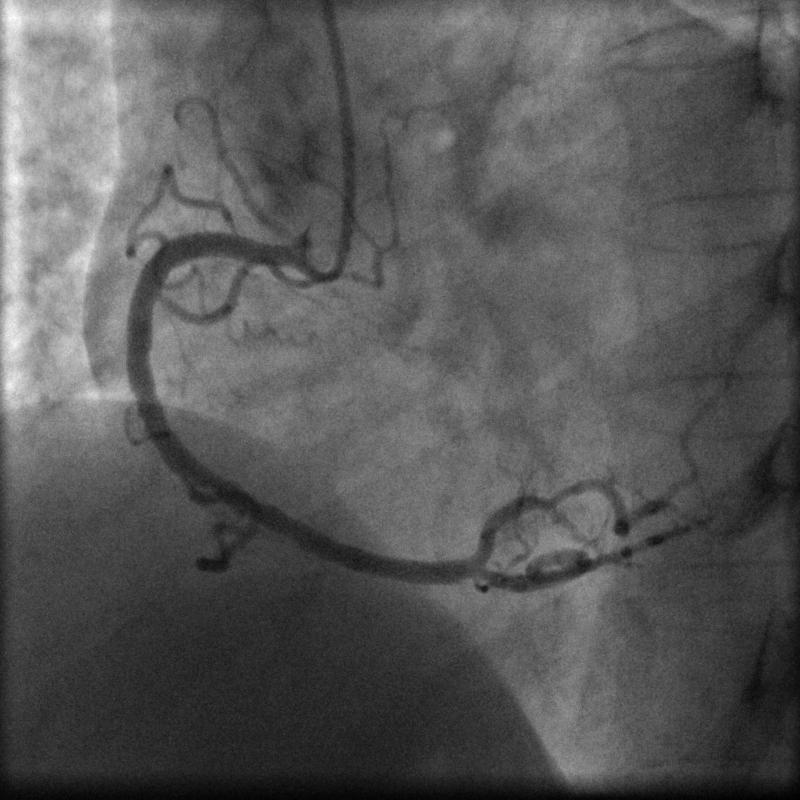Stenosis: (527, 482, 576, 509)
